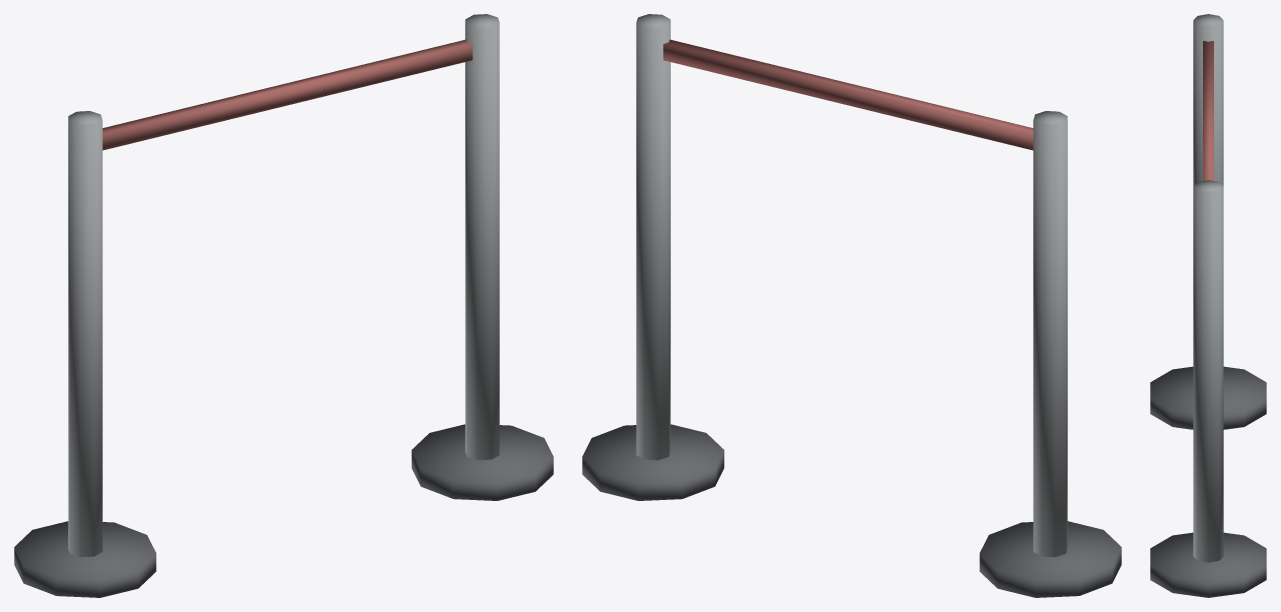
Rendered from queue_stanchion.glb.
3 renders of one model, left to right at view 1: azimuth 30°, elevation 25°; view 2: azimuth 150°, elevation 25°; view 3: azimuth 270°, elevation 25°, orthographic. The views are drawn at different scales.
Parts seen in each view (by area): view 1: world; view 2: world; view 3: world.
Part boxes in pixels (x1,y1,x2,y2): world: (14, 14, 553, 597); world: (582, 14, 1121, 597); world: (1150, 14, 1266, 597).
Size of the model in its own units: 1.18 by 0.975 by 0.2663.
